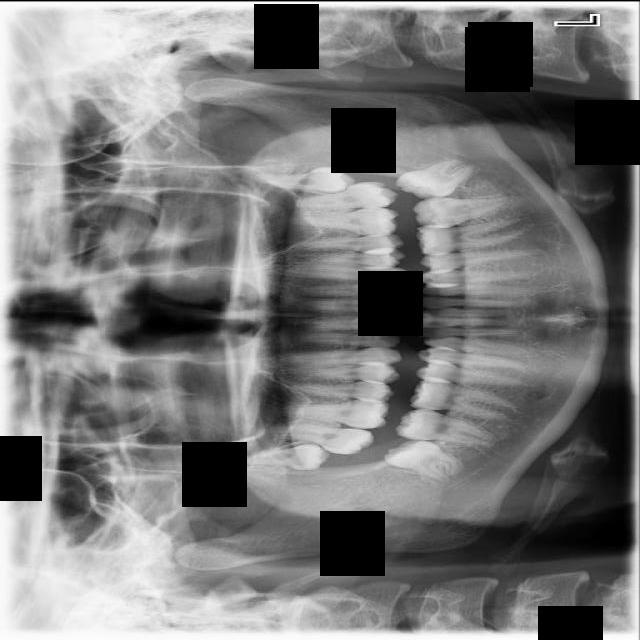3M ESPE Implant: (234, 440, 329, 470)
52: (407, 369, 460, 420), (413, 220, 461, 257)
73: (572, 38, 588, 47)
BioHorizons Implant: (288, 179, 399, 212)
BioLife Implant: (256, 165, 356, 194)
Biomet 3i Implant: (392, 151, 479, 210)
Blue Sky Bio Implant: (412, 193, 514, 229)
Caries: (264, 417, 375, 458)
Implant: (395, 405, 497, 446)
Keystone Dental Implant: (381, 426, 464, 487)
